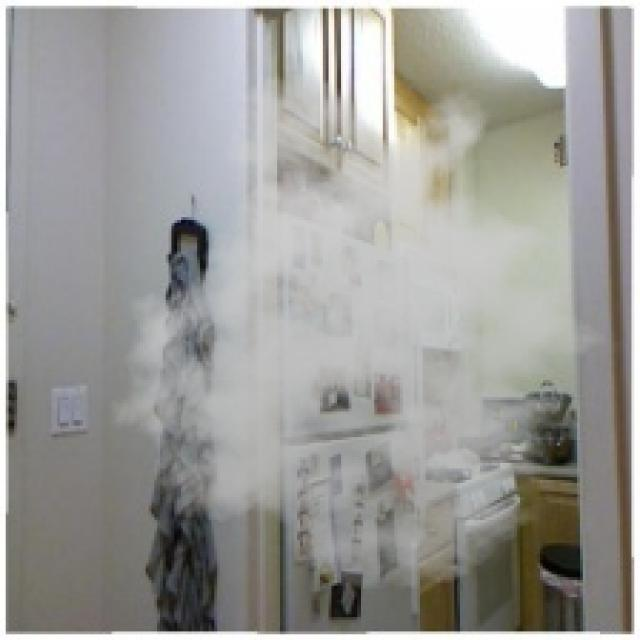smoke: (97, 69, 632, 592)
